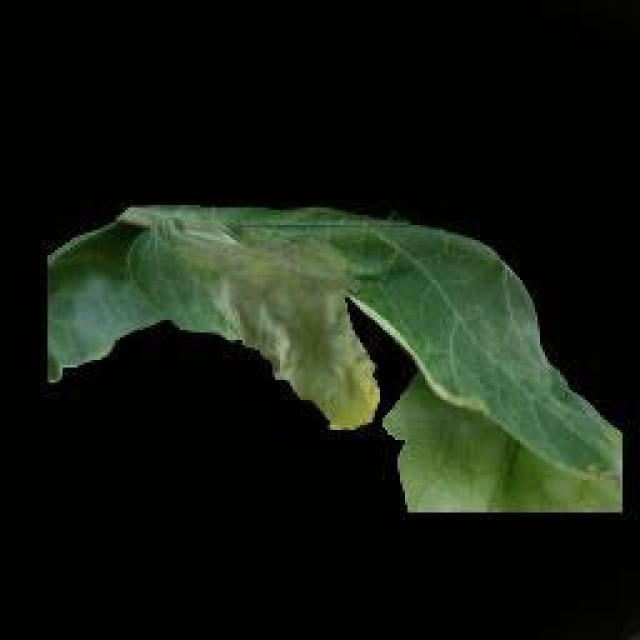Tomato Late Blight: (152, 202, 382, 385)
